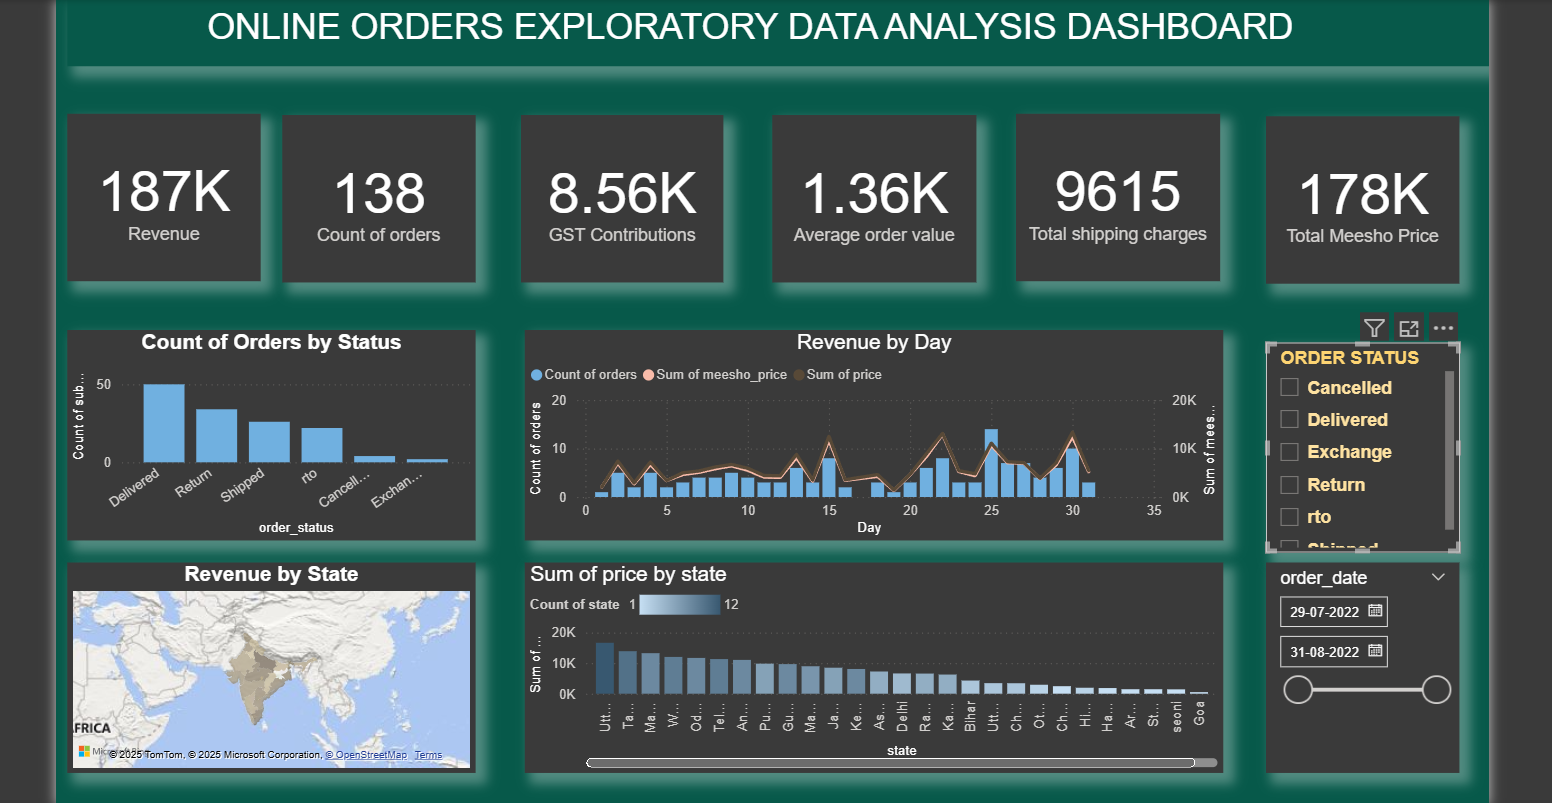

This screenshot's page, from the dashboard's own definition file:
{"tool":"powerbi","page":{"name":"Page 1","canvas":[1280,720],"ordinal":0},"visuals":[{"type":"textbox","box":[9.6,0,1270.7,59],"z":0},{"type":"card","fields":{"Values":["Sum(data.price)"]},"box":[9.6,101.5,172.9,149.6],"z":1000},{"type":"card","fields":{"Values":["Count(data.sub_order_num)"]},"box":[201.7,102.9,172.9,149.6],"z":2000},{"type":"card","fields":{"Values":["Sum(data.gst_amount)"]},"box":[415.8,102.9,181.1,149.6],"z":3000},{"type":"card","fields":{"Values":["Avg(data.price)"]},"box":[639.5,102.9,182.5,149.6],"z":4000},{"type":"card","fields":{"Values":["Sum(data.shipping_charges_total)"]},"box":[857.6,101.5,182.5,149.6],"z":5000},{"type":"card","fields":{"Values":["Sum(data.meesho_price)"]},"box":[1081.3,104.3,172.9,149.6],"z":6000},{"type":"columnChart","title":"Count of Orders by Status","fields":{"Category":["data.order_status"],"Y":["CountNonNull(data.sub_order_num)"]},"box":[9.6,295,365,188],"z":7000},{"type":"lineStackedColumnComboChart","title":"Revenue by Day","fields":{"Category":["data.order_date.Variation.Date Hierarchy.Month","data.order_date.Variation.Date Hierarchy.Day"],"Y2":["Sum(data.meesho_price)","Sum(data.price)"],"Y":["CountNonNull(data.sub_order_num)"]},"box":[418.5,295,624.4,188],"z":8000},{"type":"slicer","fields":{"Values":["data.order_status"]},"box":[1081.3,306,172.9,188],"z":9000},{"type":"filledMap","title":"Revenue by State","fields":{"Category":["data.state"]},"box":[10,503,365,188],"z":10000},{"type":"columnChart","fields":{"Category":["data.state"],"Y":["Sum(data.price)"]},"box":[419,503,624,188],"z":11000},{"type":"slicer","fields":{"Values":["data.order_date"]},"box":[1081,503,173,188],"z":12000}]}

Visuals, with their boxes on the page's 1280x720 design canvas (x1, y1, x2, y2). These are canvas units, not pixel positions in the 1552x803 screenshot, which may show the page scaled, cropped or inside an application window:
textbox: [10,0,1280,59]
card - Sum(data.price): [10,102,182,251]
card - Count(data.sub_order_num): [202,103,375,252]
card - Sum(data.gst_amount): [416,103,597,252]
card - Avg(data.price): [640,103,822,252]
card - Sum(data.shipping_charges_total): [858,102,1040,251]
card - Sum(data.meesho_price): [1081,104,1254,254]
"Count of Orders by Status" columnChart: [10,295,375,483]
"Revenue by Day" lineStackedColumnComboChart: [418,295,1043,483]
slicer - data.order_status: [1081,306,1254,494]
"Revenue by State" filledMap: [10,503,375,691]
columnChart - data.state x Sum(data.price): [419,503,1043,691]
slicer - data.order_date: [1081,503,1254,691]
